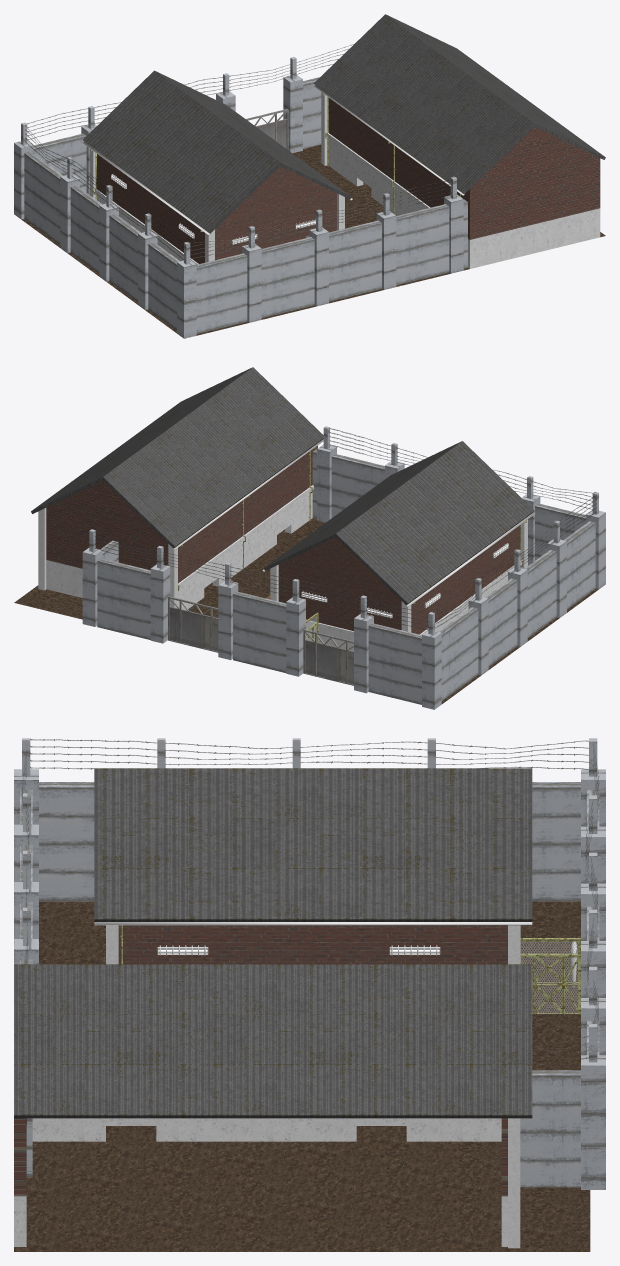
3 renders of one model, top to bottom at view 1: azimuth 30°, elevation 25°; view 2: azimuth 150°, elevation 25°; view 3: azimuth 270°, elevation 25°, orthographic. The views are drawn at different scales.
Parts seen in each view (by area): view 1: House.003, House.001, Plane.002, House, Plane.010, Cube.005, Cube.002, Plane.017, Plane.015, Plane.016, Plane.018, Cube.003 (+15 smaller); view 2: House.003, House.001, Plane.002, House, Cube.003, Plane.010, Ground, Cube.002, Plane.001, Plane.006, Plane.009, Plane.014 (+17 smaller); view 3: House.003, Ground, House.001, House, Plane.010, Cube.003, Plane.011, Plane.019, Plane.014, Cube.005, Plane.021, Cube.002 (+8 smaller).
Boxes of the visible parts, left/top/right/bottom form: House.003: left=314, top=14, right=605, bottom=194; House.001: left=83, top=70, right=351, bottom=233; Plane.002: left=328, top=98, right=600, bottom=239; House: left=97, top=154, right=336, bottom=263; Plane.010: left=328, top=138, right=600, bottom=268; Cube.005: left=242, top=176, right=463, bottom=322; Cube.002: left=60, top=156, right=196, bottom=338; Plane.017: left=261, top=237, right=314, bottom=317; Plane.015: left=396, top=204, right=449, bottom=285; Plane.016: left=329, top=220, right=381, bottom=301; Plane.018: left=196, top=253, right=247, bottom=333; Cube.003: left=14, top=57, right=302, bottom=219; House.003: left=31, top=367, right=323, bottom=548; House.001: left=263, top=441, right=534, bottom=605; Plane.002: left=46, top=445, right=317, bottom=583; House: left=278, top=525, right=520, bottom=634; Cube.003: left=82, top=529, right=441, bottom=709; Plane.010: left=46, top=491, right=312, bottom=610; Ground: left=14, top=518, right=598, bottom=704; Cube.002: left=468, top=492, right=605, bottom=675; Plane.001: left=97, top=558, right=150, bottom=639; Plane.006: left=233, top=591, right=286, bottom=672; Plane.009: left=368, top=623, right=421, bottom=704; Plane.014: left=438, top=607, right=478, bottom=701; House.003: left=14, top=964, right=532, bottom=1118; Ground: left=14, top=901, right=590, bottom=1251; House.001: left=94, top=768, right=532, bottom=921; House: left=118, top=925, right=507, bottom=964; Plane.010: left=14, top=1118, right=507, bottom=1246; Cube.003: left=581, top=738, right=605, bottom=1189; Plane.011: left=39, top=782, right=94, bottom=901; Plane.019: left=520, top=1070, right=580, bottom=1187; Plane.014: left=532, top=782, right=580, bottom=901; Cube.005: left=14, top=793, right=38, bottom=964; Plane.021: left=30, top=739, right=588, bottom=769; Cube.002: left=14, top=738, right=435, bottom=824.
Bounding box in the file's own units: 33.84 × 10.09 × 23.64.
18 materials, 12 textured.
